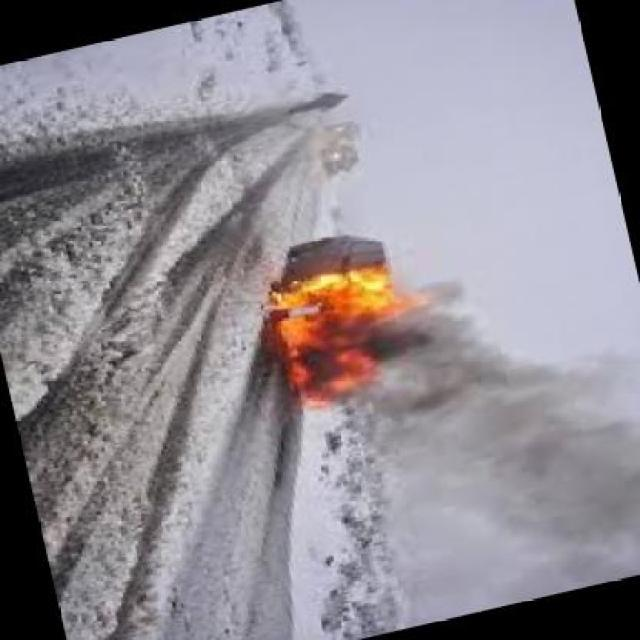Fire: (264, 258, 406, 402)
Smoke: (376, 324, 640, 580), (413, 258, 482, 324)
